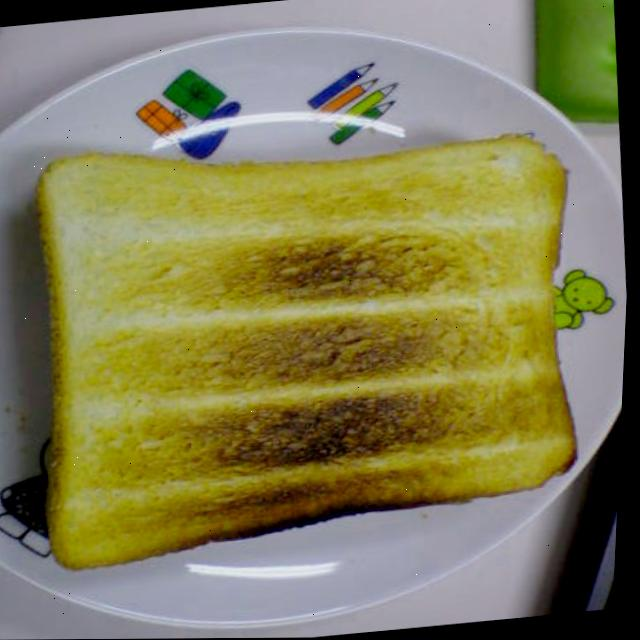面包点心: (27, 135, 595, 566)
